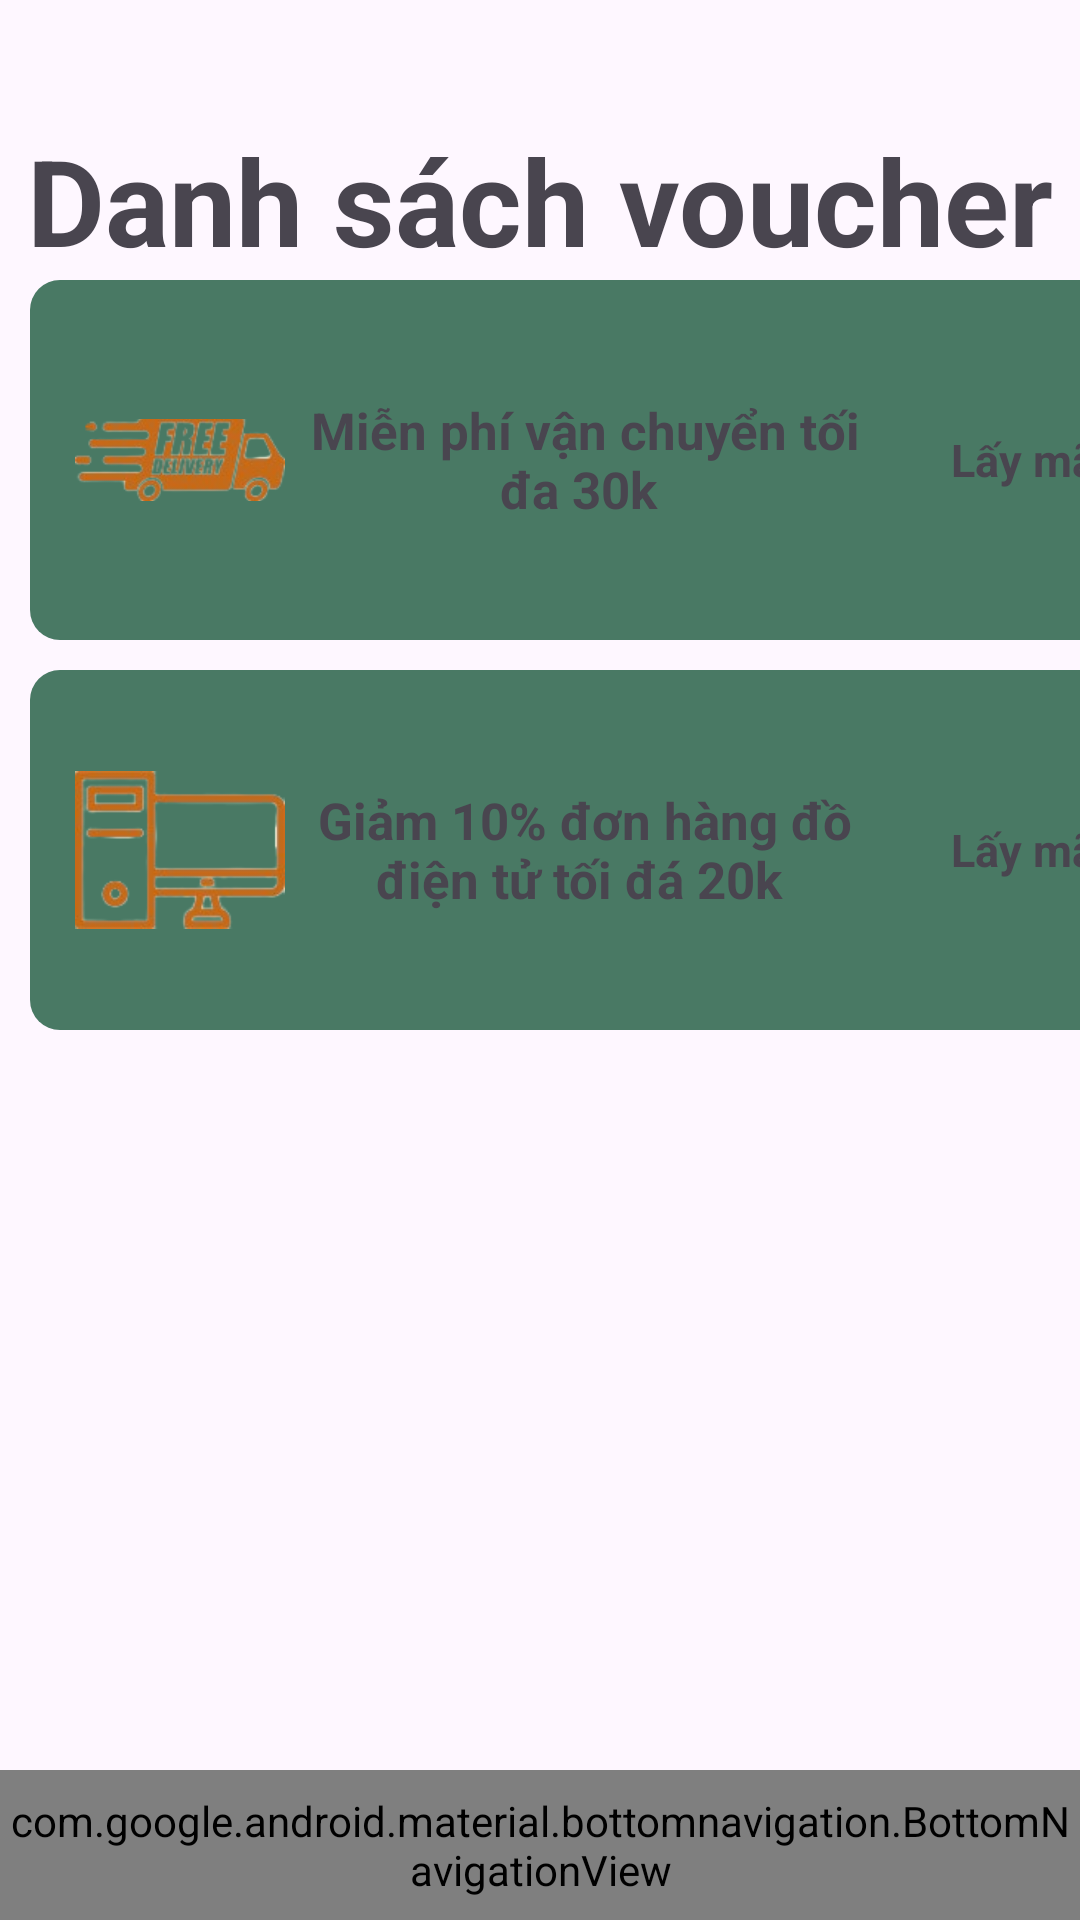

Icon click points for this 1080×1920 phone screenshot, format [x,y]:
dodientu: [180,850]
